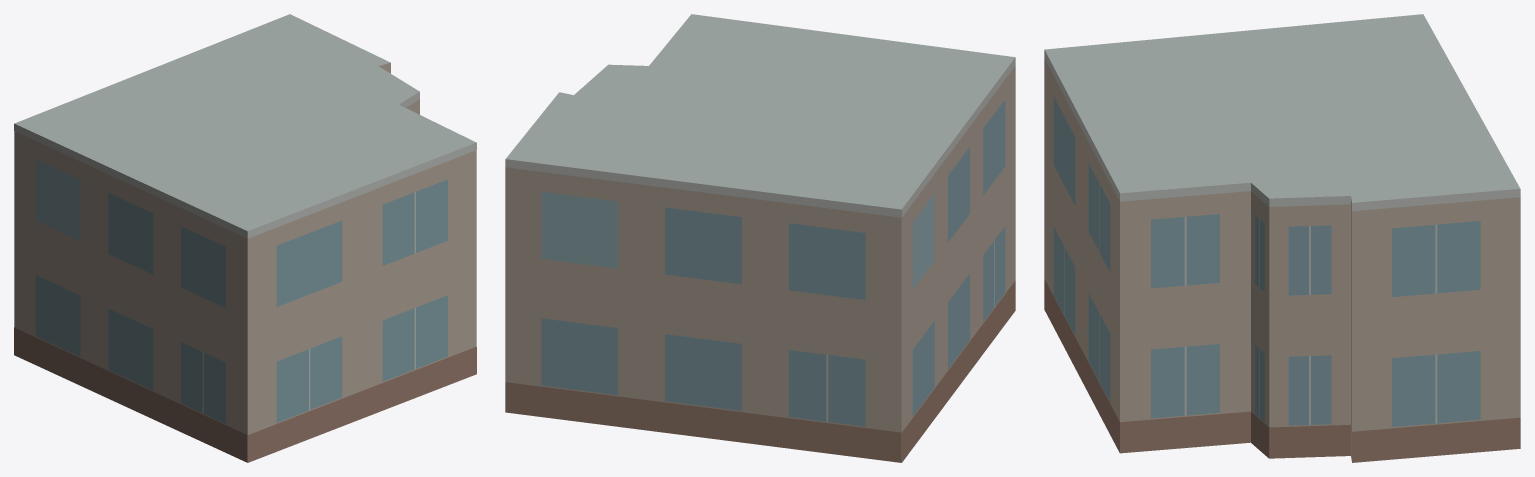
The model's file is survey-upis-32621620.glb.
3 renders of one model, left to right at view 1: azimuth 30°, elevation 25°; view 2: azimuth 150°, elevation 25°; view 3: azimuth 270°, elevation 25°, orthographic. The views are drawn at different scales.
Parts seen in each view (by area): view 1: survey-upis-32621620.tmp; view 2: survey-upis-32621620.tmp; view 3: survey-upis-32621620.tmp.
Boxes of the visible parts, bbox=[...] form: survey-upis-32621620.tmp: bbox=[14, 14, 476, 462]; survey-upis-32621620.tmp: bbox=[505, 14, 1015, 462]; survey-upis-32621620.tmp: bbox=[1044, 14, 1520, 462].
Bounding box in the file's own units: 11.86 × 7.6 × 12.63.
